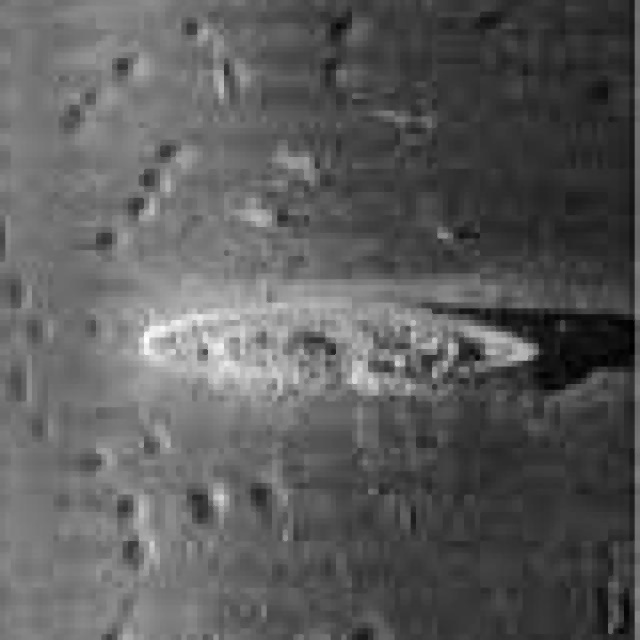Ship: (128, 273, 554, 424)
